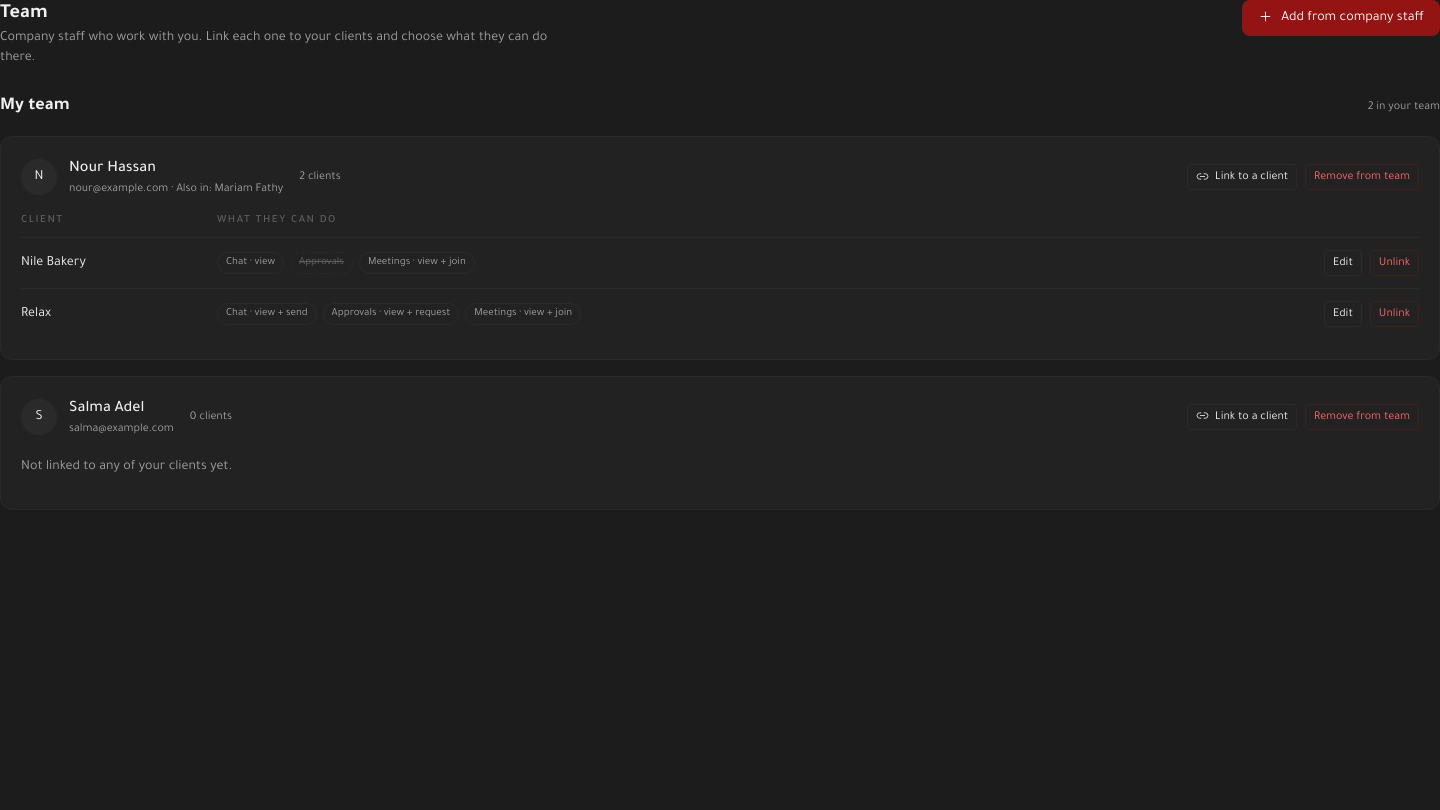
it: Team page (classic look) › leaves the member alone when the removal is cancelled
Click the button "Remove from team" in the row of "0 clients" at (1362, 417), box [1305, 404, 1419, 430]
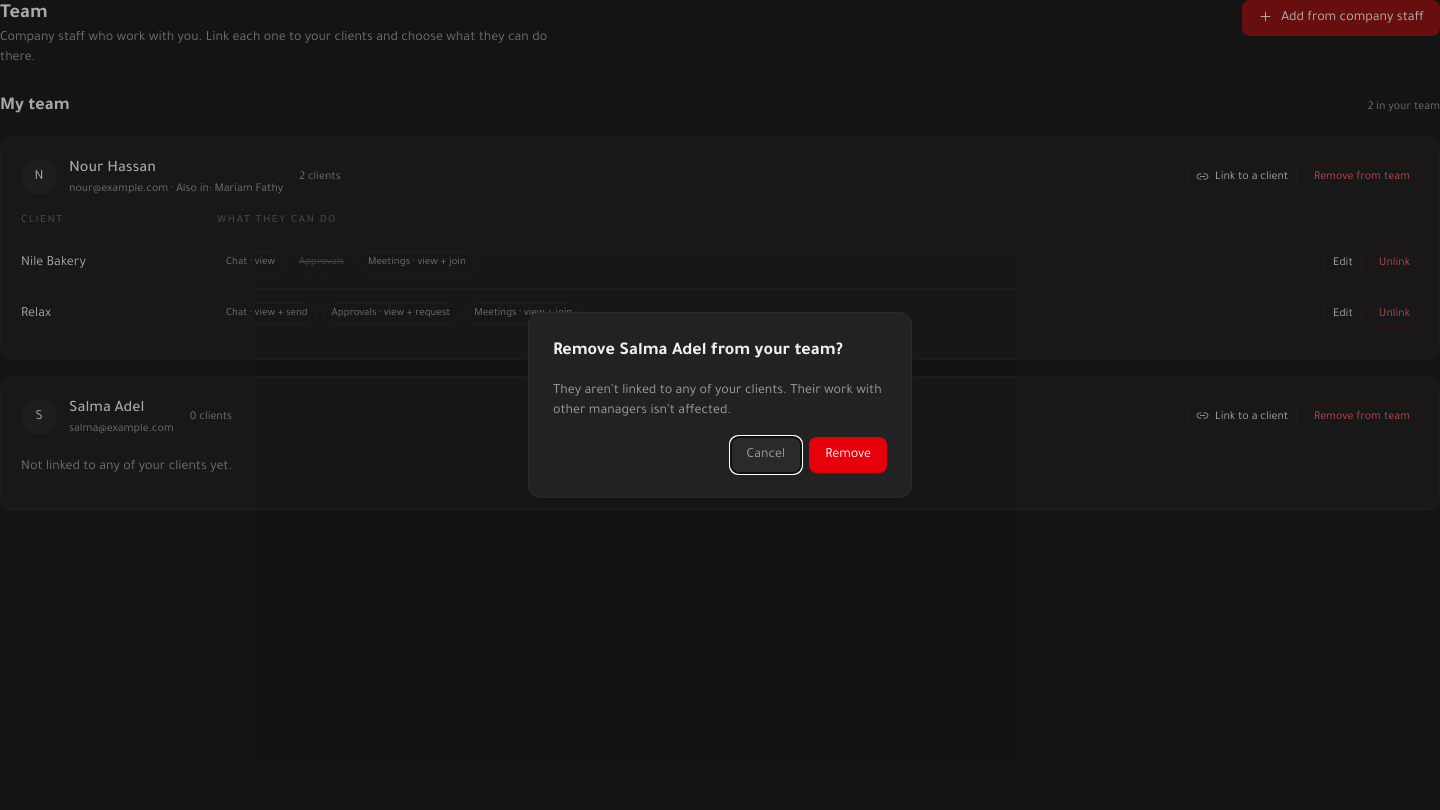
Check: the text "aren’t linked to any of your clients" is shown, box [553, 384, 882, 418]
Click the button "Cancel" at (766, 455), box [731, 437, 801, 473]
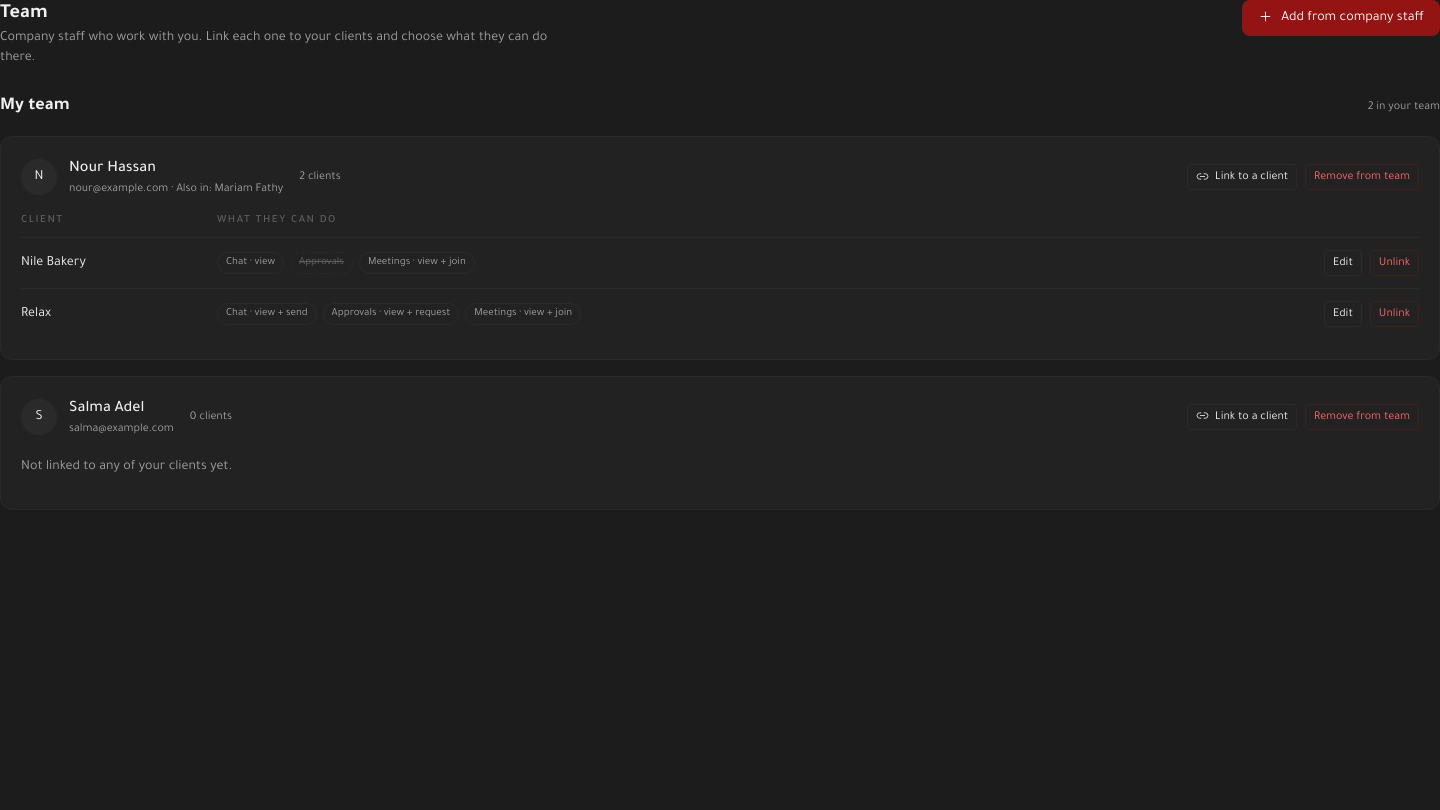
Check: the heading "Remove Salma Adel from your team?" is gone
